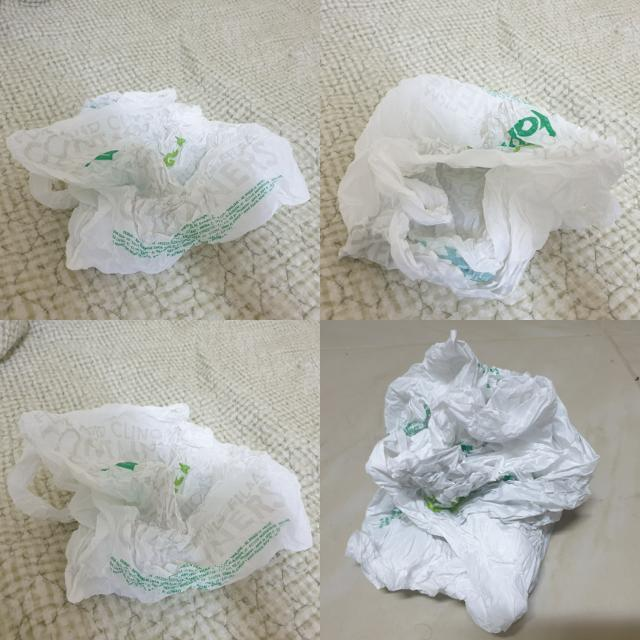Single-layer Plastic: (346, 331, 598, 632), (339, 75, 624, 299), (8, 404, 311, 603), (6, 90, 309, 274)
